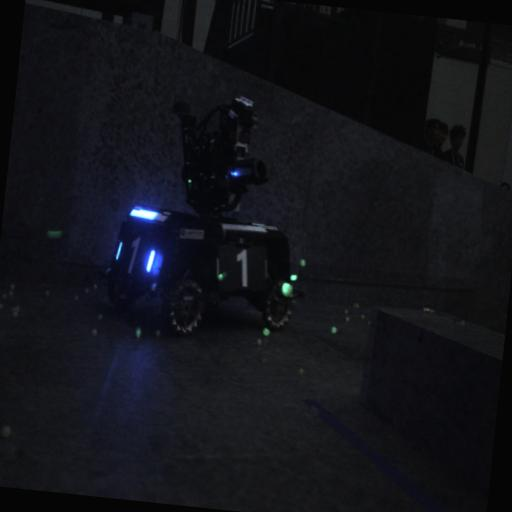target: (109, 204, 166, 298)
